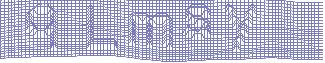L: (85, 3, 119, 53)
m: (127, 11, 175, 52)
q: (24, 2, 61, 51)
s: (181, 2, 212, 43)
y: (223, 2, 258, 53)
